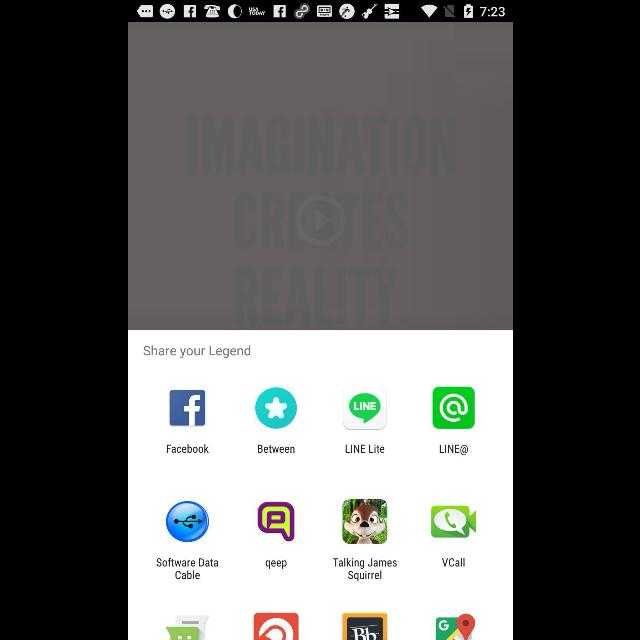icon: (169, 389, 205, 426)
image: (341, 500, 387, 544), (342, 386, 386, 430), (432, 386, 474, 429), (254, 387, 296, 429), (166, 501, 208, 543), (256, 502, 294, 542), (430, 506, 476, 538), (252, 612, 298, 640), (342, 612, 386, 640), (434, 614, 476, 640), (166, 614, 208, 640)
panel: (128, 330, 512, 640)
text: (332, 558, 396, 582), (156, 558, 218, 580), (142, 346, 250, 358), (166, 444, 208, 454), (344, 444, 384, 454), (438, 444, 468, 456), (258, 444, 294, 454), (441, 558, 465, 566), (266, 560, 286, 568)
uppertaskbar: (128, 1, 512, 23)
